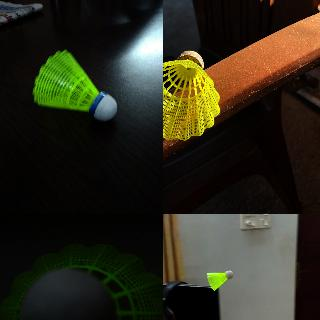shuttlecock: (0, 244, 162, 319), (32, 49, 116, 121), (163, 50, 219, 141), (207, 270, 233, 290)
